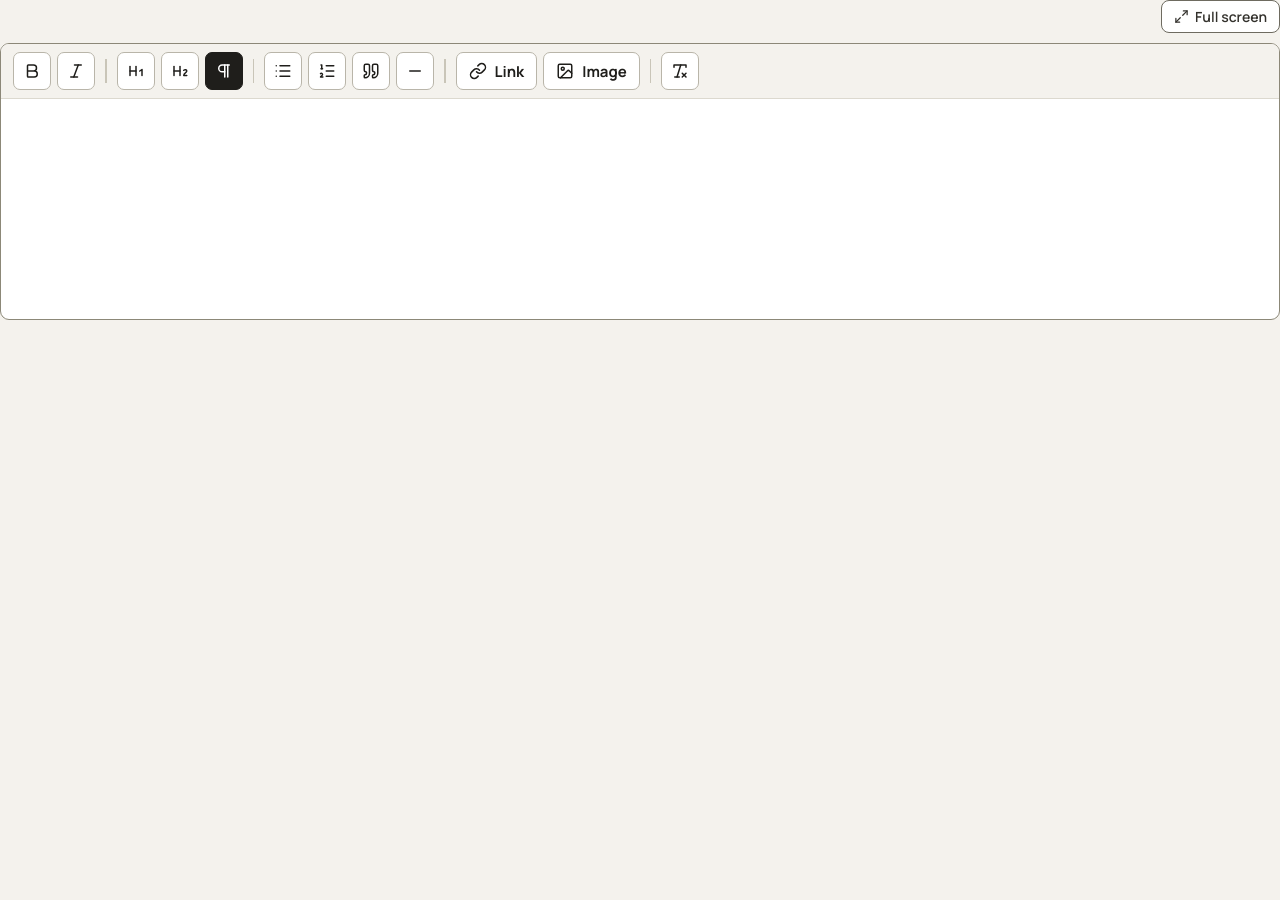
Scenario: RichtextEditor › image insert modal › opens image picker when image button clicked
Click the button titled "Insert image". click: (592, 71)
box: [543, 52, 640, 90]
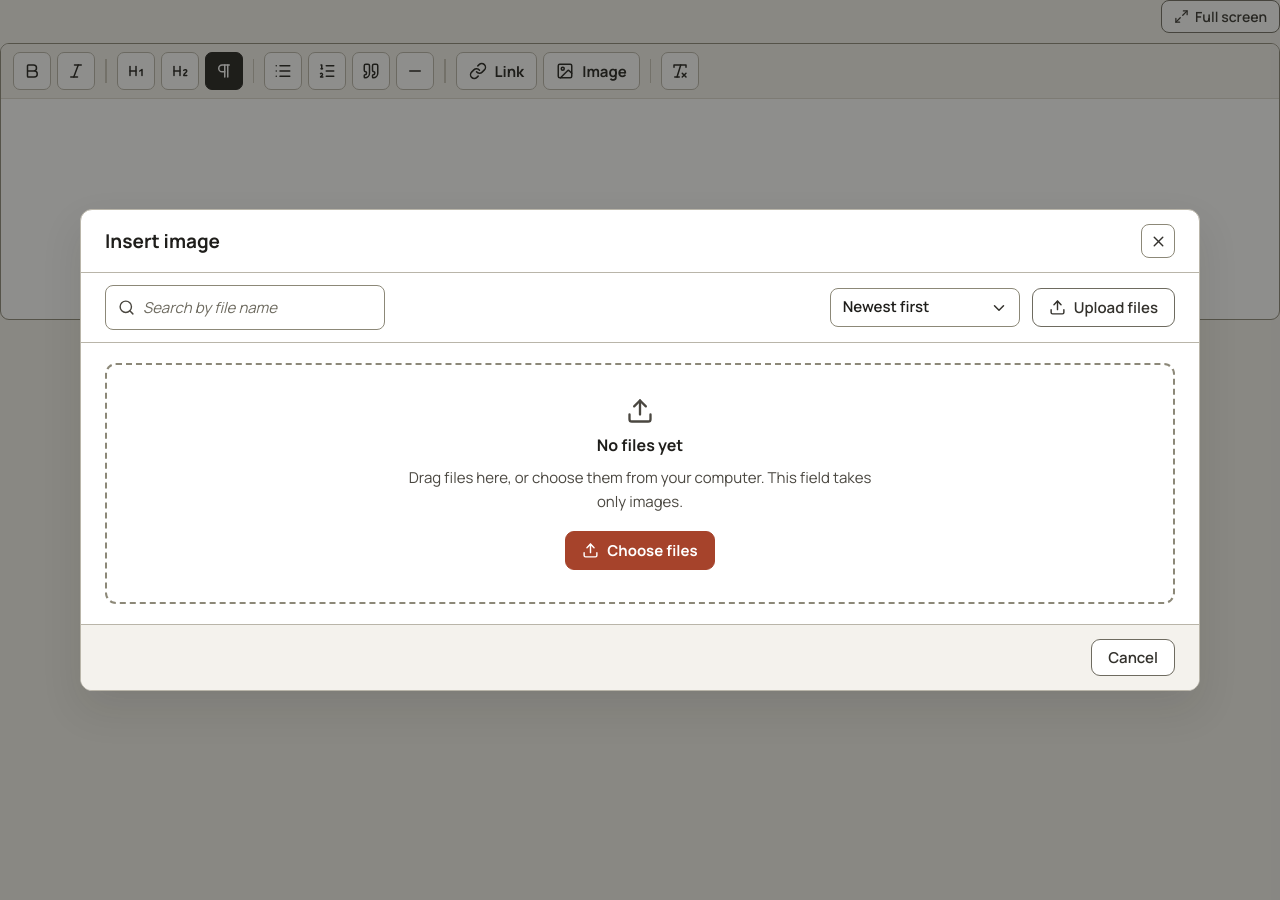
Now the dialog "Insert image" is shown, box [80, 209, 1200, 691]
Now the button "Upload files" is shown, box [1032, 288, 1175, 327]
